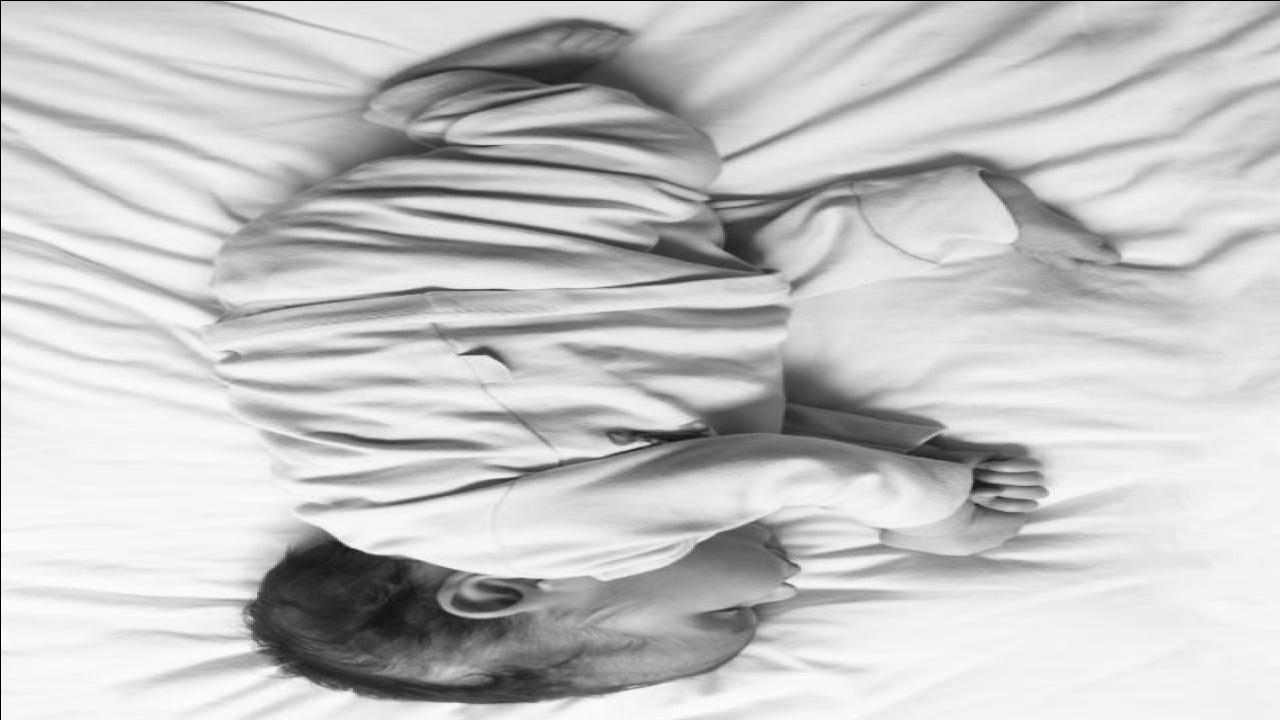hand: (880, 510, 1024, 556), (968, 450, 1044, 511)
